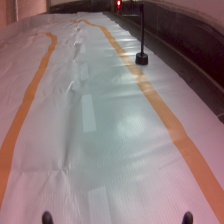red: (114, 1, 152, 66)
